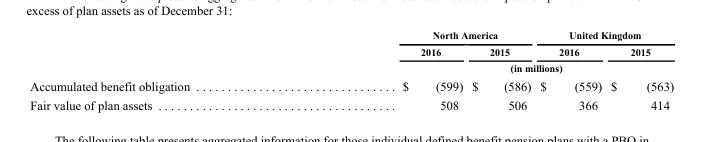table: (29, 29, 673, 111)
table column: (29, 29, 295, 111), (295, 29, 466, 111), (534, 29, 605, 111), (466, 29, 534, 111), (605, 29, 673, 111)
table column header: (29, 29, 673, 75)
table row: (29, 75, 673, 94), (29, 94, 673, 111), (29, 43, 673, 59), (29, 59, 673, 75), (29, 29, 673, 43)
table spanning cell: (295, 59, 673, 75), (295, 29, 534, 43), (534, 29, 673, 43)
